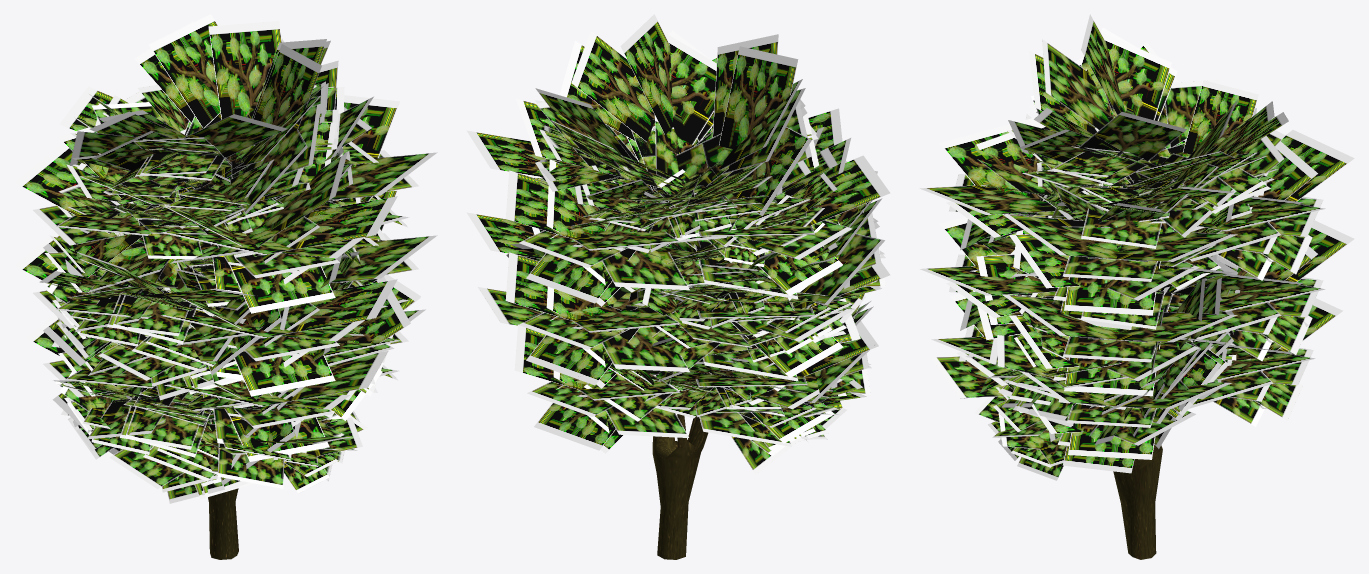
The model's file is CHIMICHANGO.fbx.
3 renders of one model, left to right at view 1: azimuth 30°, elevation 25°; view 2: azimuth 150°, elevation 25°; view 3: azimuth 270°, elevation 25°, orthographic. The views are drawn at different scales.
Parts seen in each view (by area): view 1: chimichango_LOD0; view 2: chimichango_LOD0; view 3: chimichango_LOD0.
Part boxes in pixels (x1,y1,x2,y2): chimichango_LOD0: [14, 14, 437, 559]; chimichango_LOD0: [466, 14, 890, 559]; chimichango_LOD0: [919, 14, 1354, 559].
Size of what is drawn, in the model's own units: 14.98 by 18.72 by 15.04.
